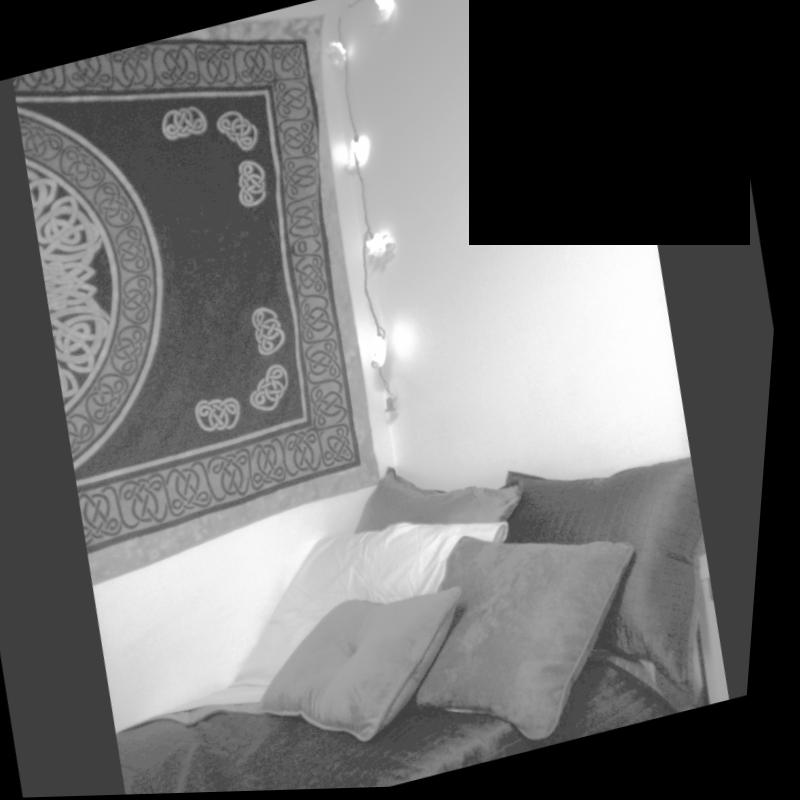pillow: (406, 487, 681, 755), (254, 574, 515, 776)
